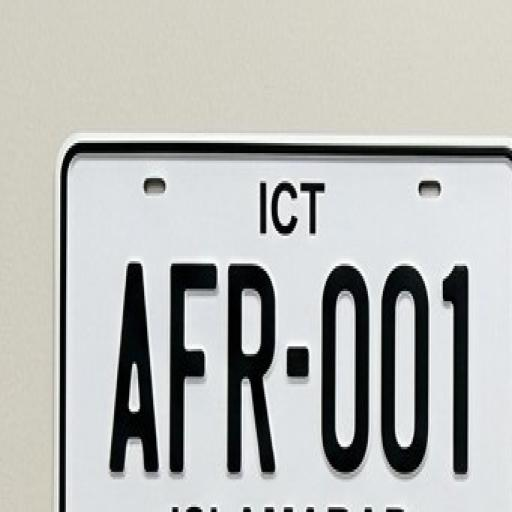0: (380, 270, 430, 476), (320, 270, 368, 473)
1: (434, 262, 478, 481)
A: (106, 250, 160, 480)
F: (167, 258, 220, 469)
R: (228, 256, 277, 484)
